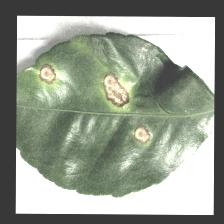canker: (31, 48, 154, 151)
